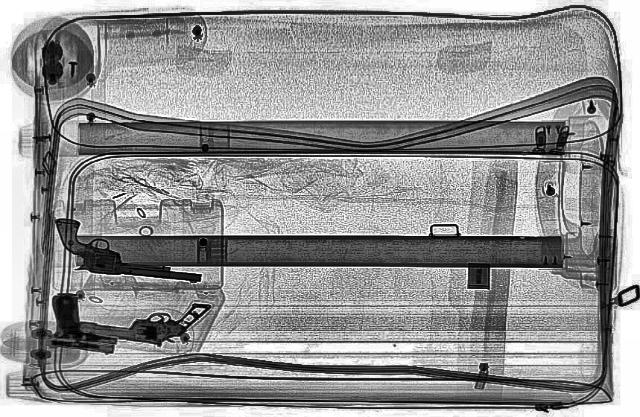Gun: (46, 217, 210, 281), (70, 284, 212, 351), (39, 292, 117, 354)
